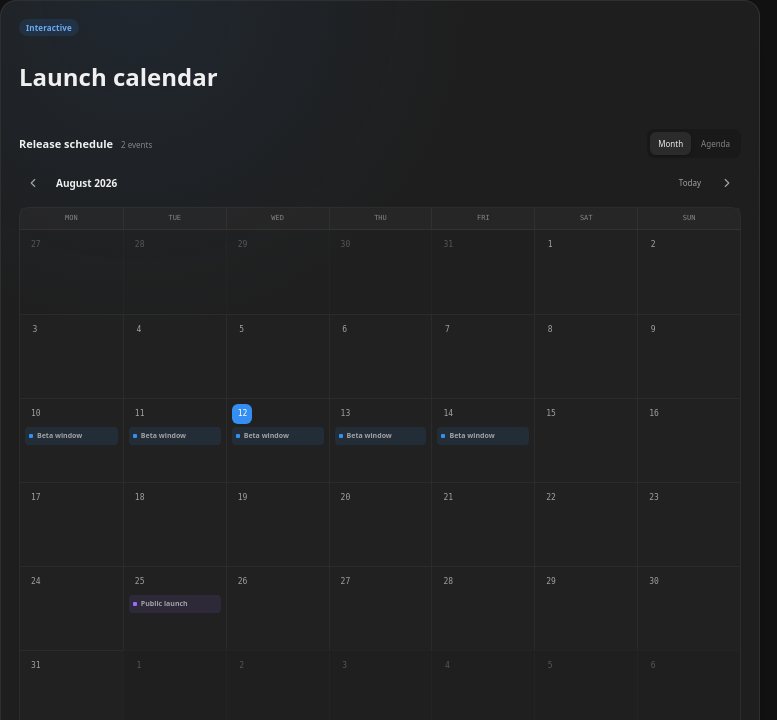
Scenario: provider-neutral inline visualizations › navigates calendar months and switches to an inspectable agenda
The image size is (777, 720).
Expected: the text "August 2026" is shown, [56,176,117,190]
What coordinates should you click on to do the following:
click the button named "Next month"
I would click on:
 (727, 183)
Its box is [713,170,741,196].
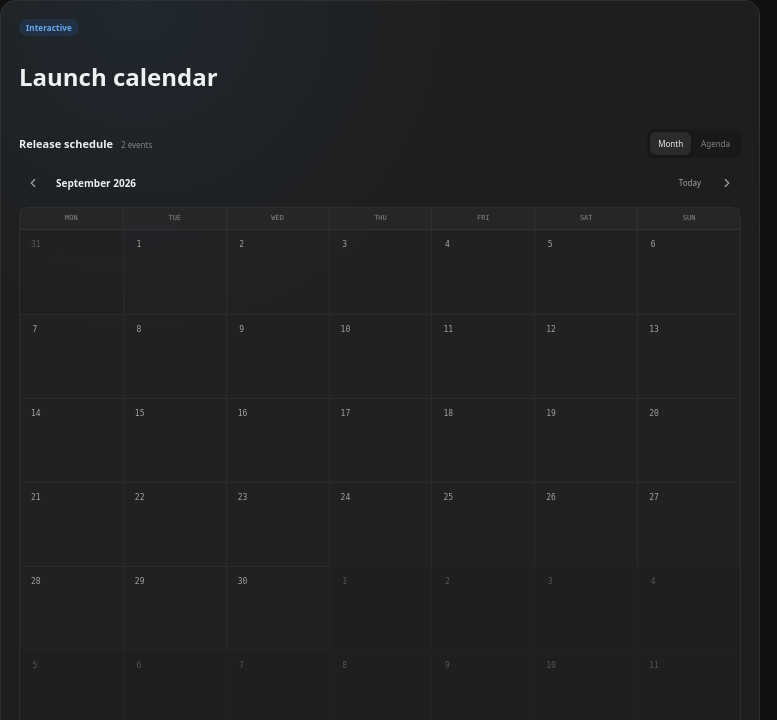
Expected: the text "September 2026" is shown, [56,176,136,190]
What coordinates should you click on to do the following:
click the button "Agenda"
I would click on:
 (716, 144)
Its box is [693,132,738,155].
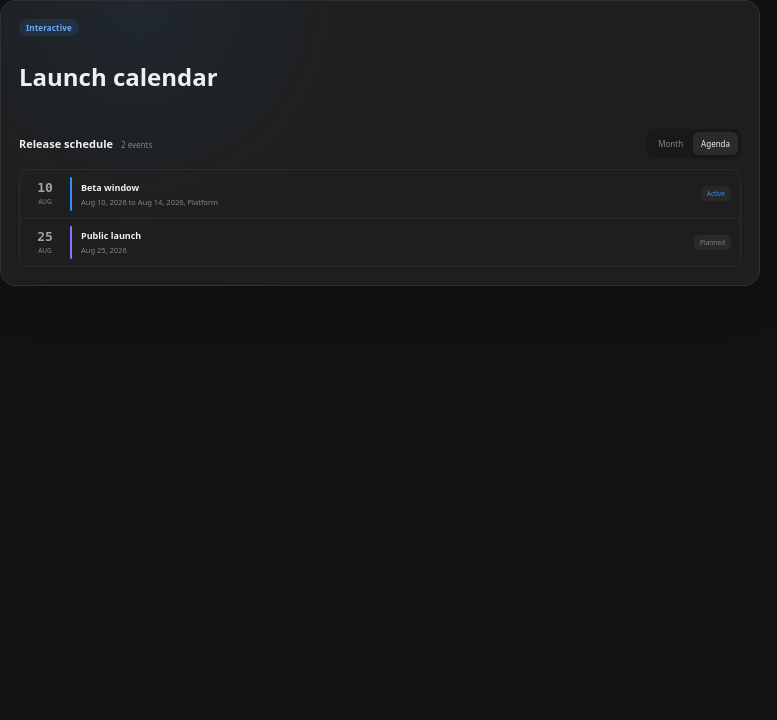
What coordinates should you click on to do the following:
click the button "25 Aug Public launch Aug 25, 2026 Planned"
I would click on:
 (111, 236)
Its box is [20,218,740,266].
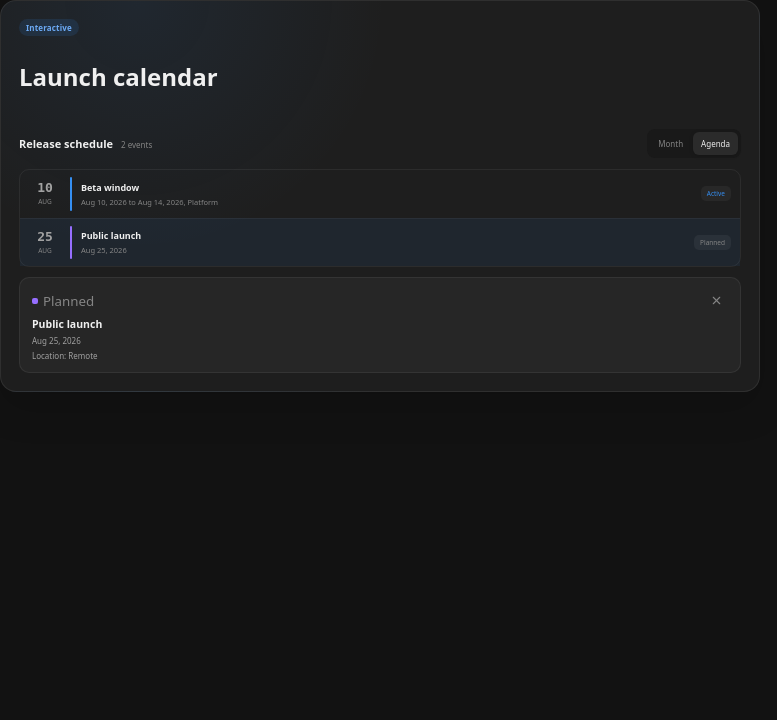
Expected: the text "Location: Remote" is shown, [32,350,98,361]
